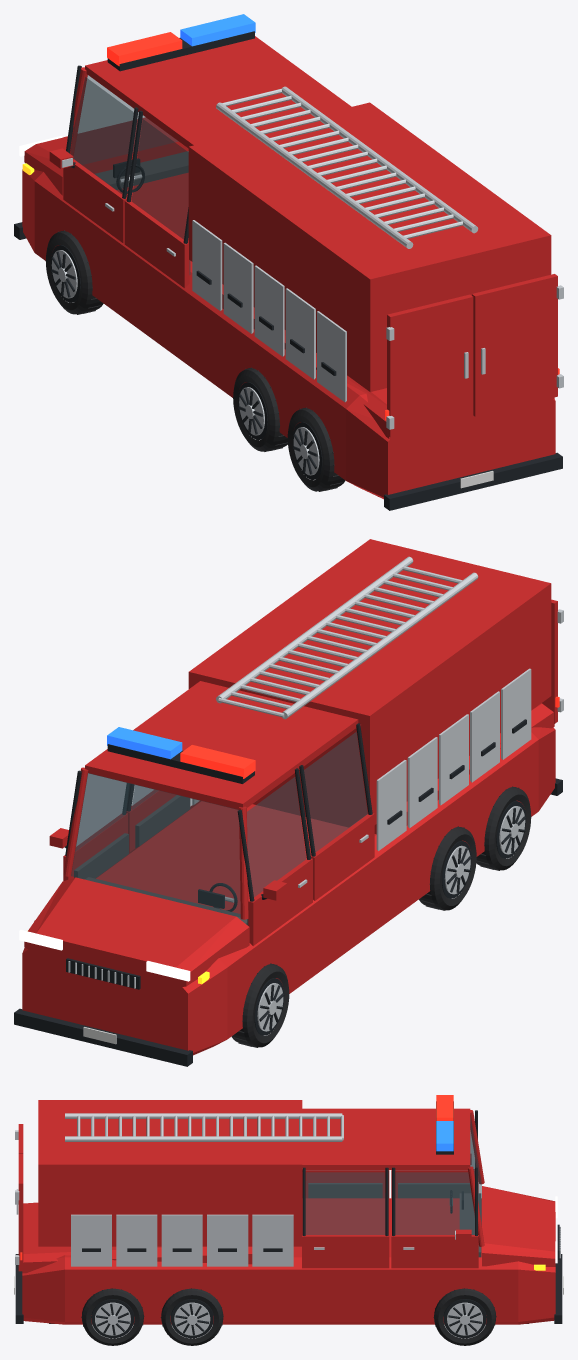
File: firetruck.glb
3 views of the same model, one above another, from view 1: azimuth 30°, elevation 25°; view 2: azimuth 150°, elevation 25°; view 3: azimuth 270°, elevation 25° (orthographic). The views are drawn at different scales.
Visible parts, largest first — view 1: Body, Door_Rear_L, Door_Rear_R, Door_FL, Door_RL, Wheel_RL, Wheel_FL, Wheel_ML; view 2: Body, Door_FL, Door_RL, Door_FR, Wheel_FL, Wheel_ML, Wheel_RL, Door_RR, Door_Rear_L; view 3: Body, Door_RR, Door_FR, Wheel_MR, Wheel_FR, Wheel_RR, Door_RL, Door_FL, Door_Rear_R.
Part boxes in pixels (x1,y1,x2,y2): Body: (14,14,562,510); Door_Rear_L: (386,294,473,437); Door_Rear_R: (472,274,563,416); Door_FL: (49,65,138,243); Door_RL: (124,110,190,288); Wheel_RL: (287,407,345,491); Wheel_FL: (45,230,103,314); Wheel_ML: (233,367,287,451); Body: (14,539,562,1066); Door_FL: (237,768,312,945); Door_RL: (299,723,374,900); Door_FR: (49,770,130,880); Wheel_FL: (231,963,289,1047); Wheel_ML: (419,826,476,910); Wheel_RL: (476,786,531,870); Door_RR: (126,784,190,852); Door_Rear_L: (542,599,563,723); Body: (14,1095,563,1324); Door_RR: (302,1167,389,1268); Door_FR: (391,1167,478,1268); Wheel_MR: (160,1288,223,1345); Wheel_FR: (433,1288,496,1345); Wheel_RR: (81,1288,144,1345); Door_RL: (302,1170,389,1198); Door_FL: (391,1110,478,1198); Door_Rear_R: (15,1154,23,1271).
Size of what is drawn, in the model's own units: 3 by 3.33 by 8.66.
